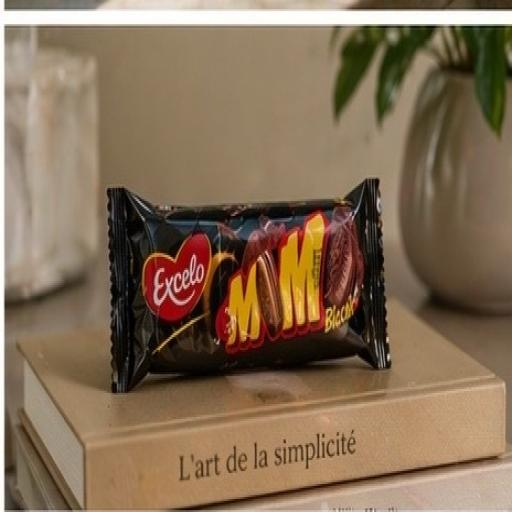MOMO: (69, 125, 424, 467)
